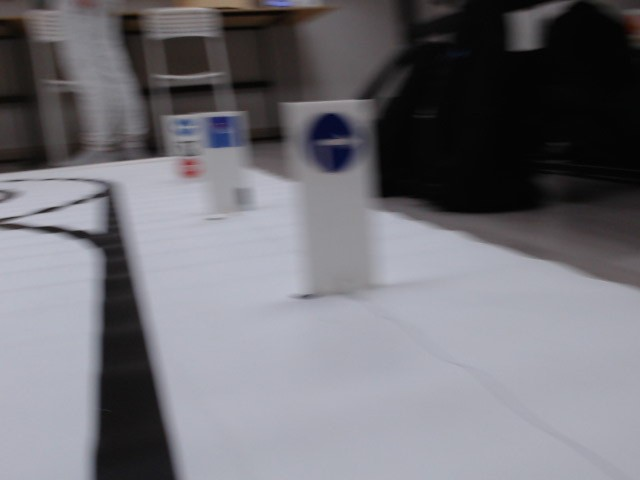Right: (305, 110, 357, 176)
